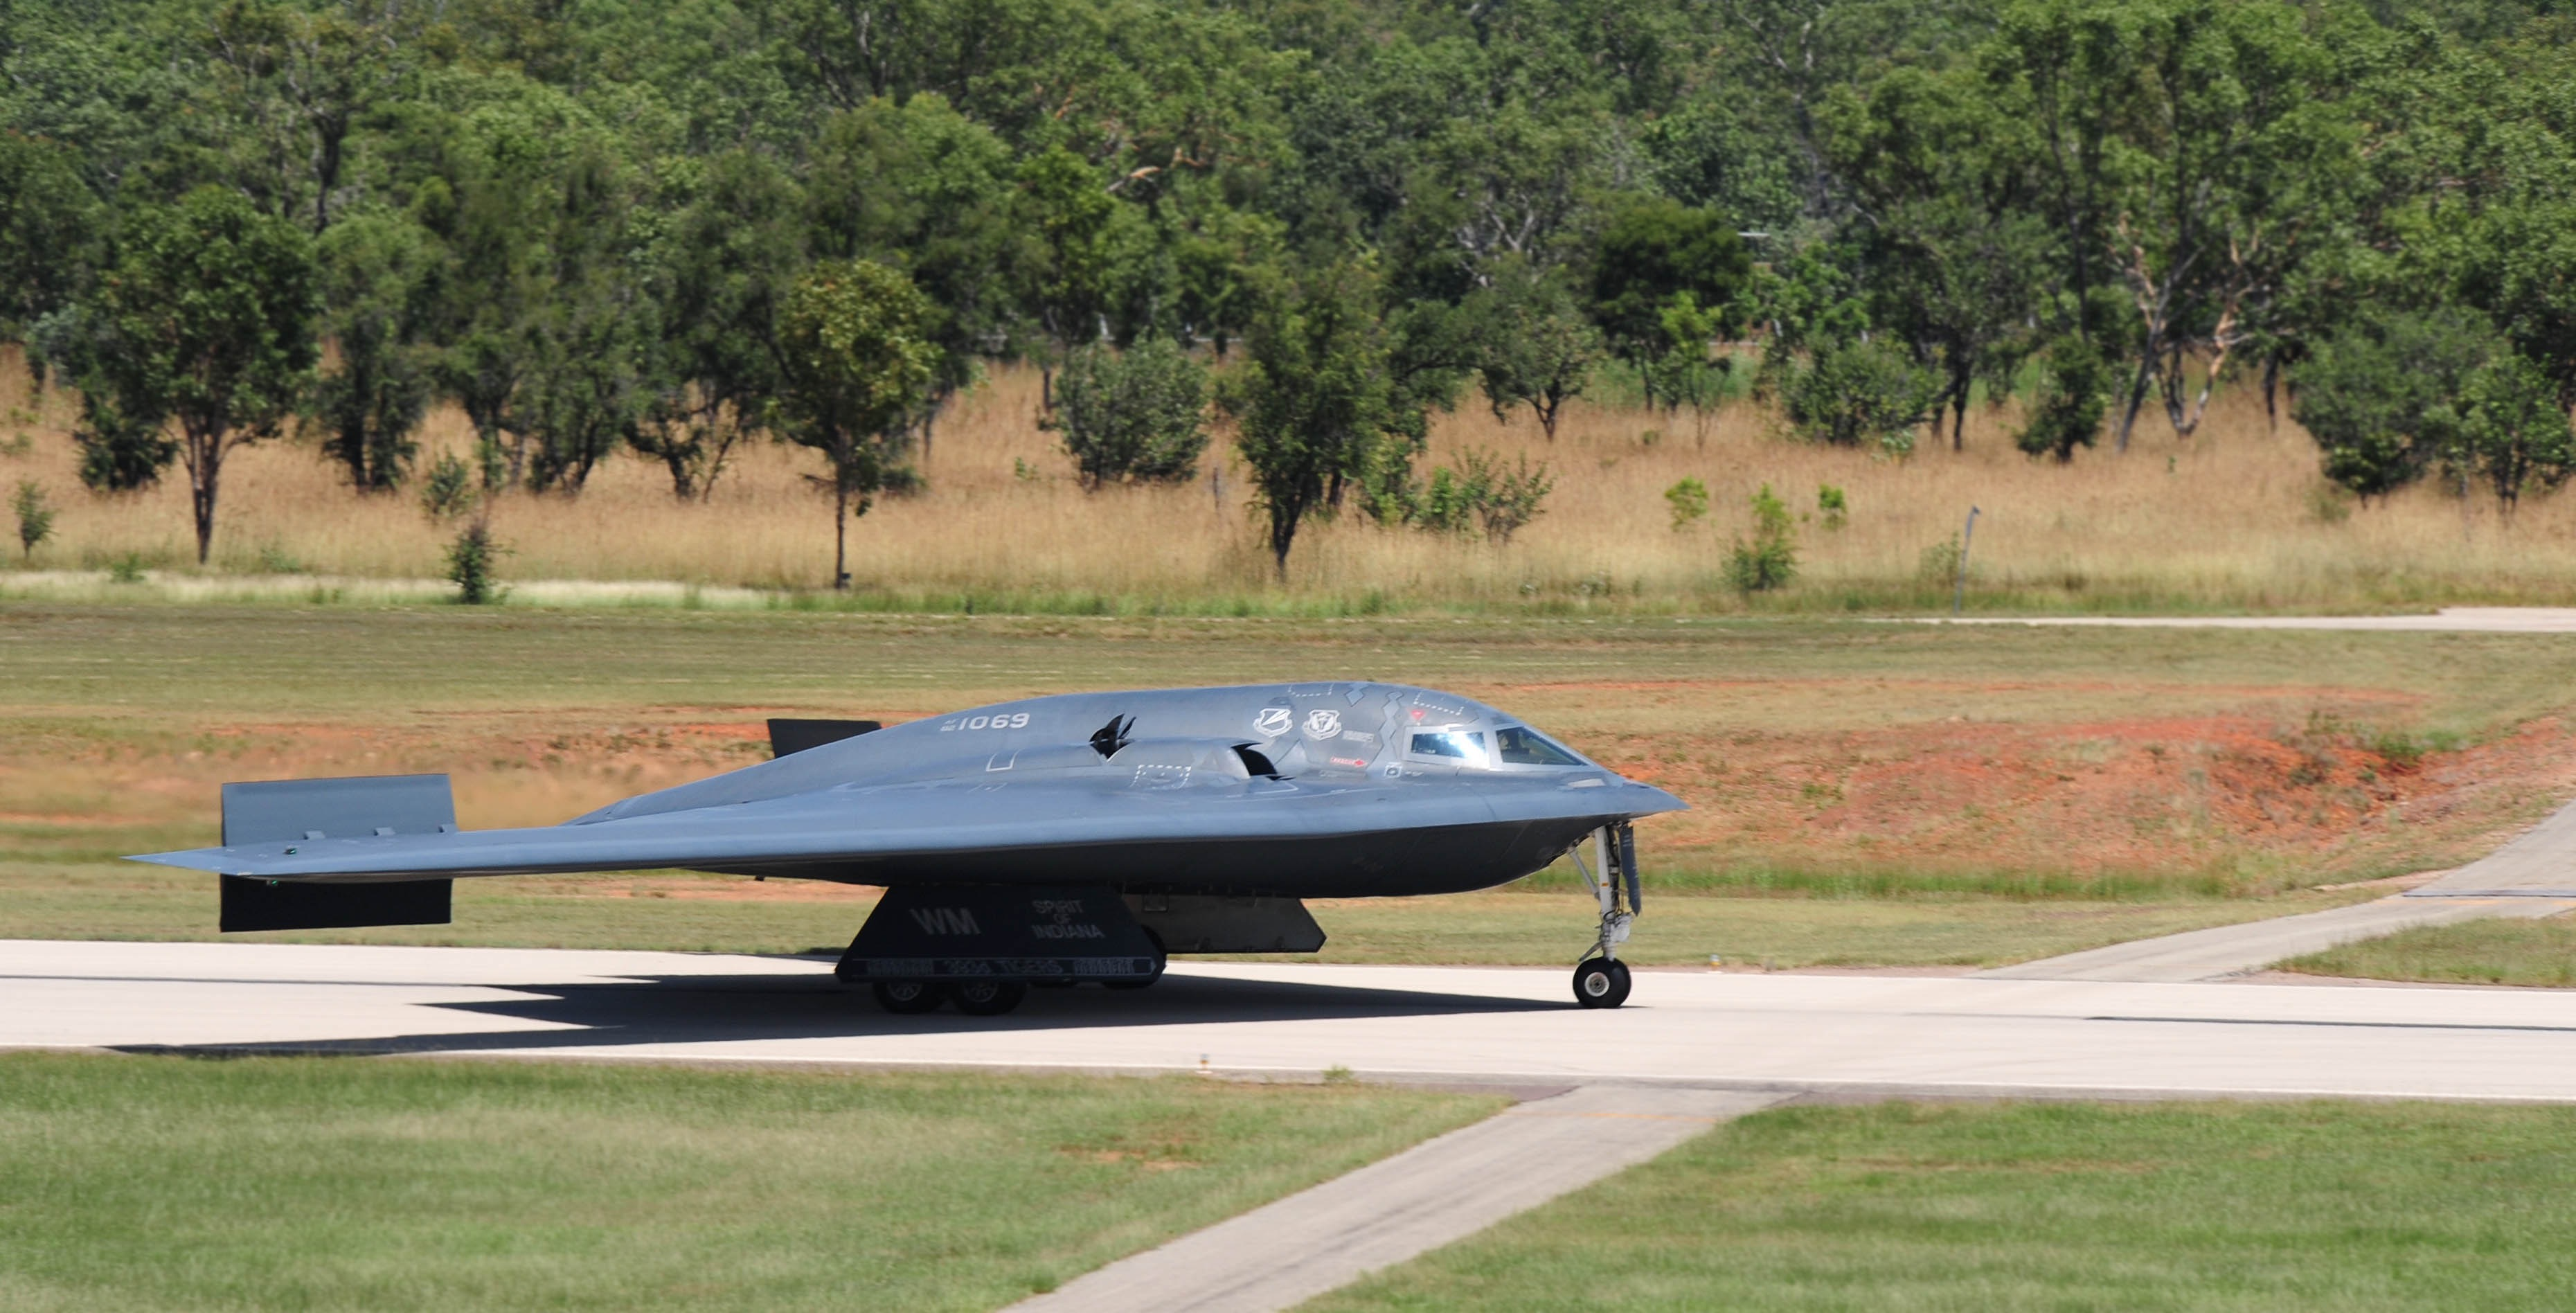B2: (121, 682, 1692, 1005)
